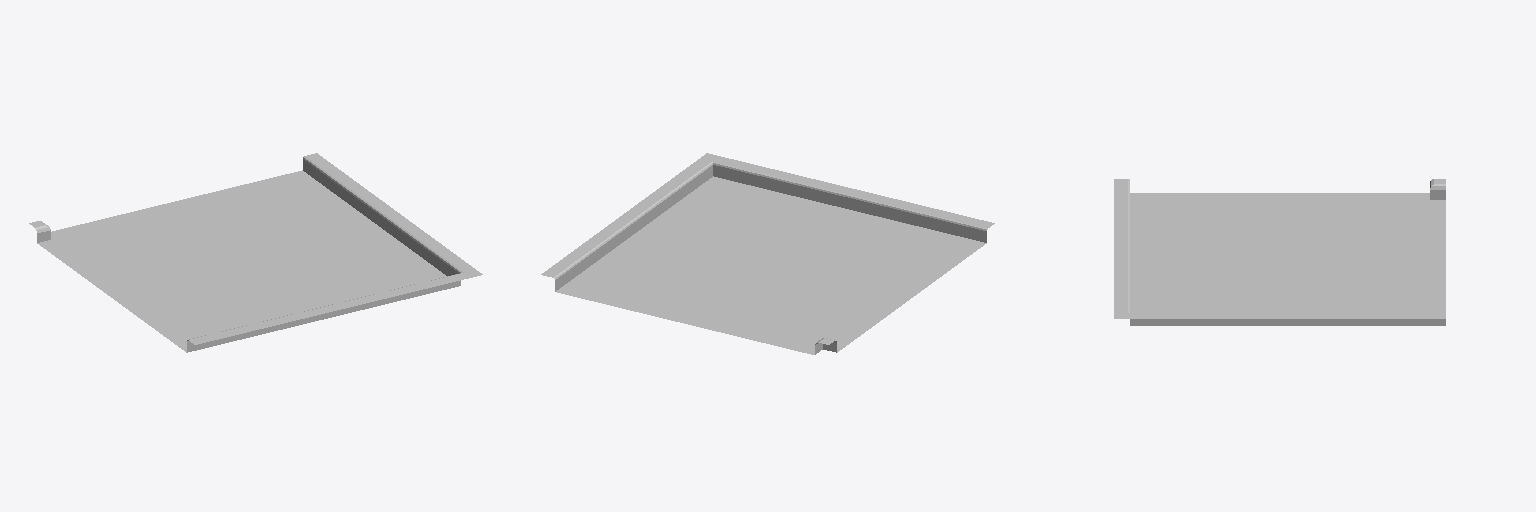
Rendered from Elbow.obj.
3 renders of one model, left to right at view 1: azimuth 30°, elevation 25°; view 2: azimuth 150°, elevation 25°; view 3: azimuth 270°, elevation 25°, orthographic.
Visible parts, largest first — view 1: polySurface2; view 2: polySurface2; view 3: polySurface2.
Part boxes in pixels (x1,y1,x2,y2): polySurface2: (29,153,482,352); polySurface2: (541,153,994,354); polySurface2: (1114,179,1445,325).
Bounding box in the file's own units: 20 × 0.9118 × 20.